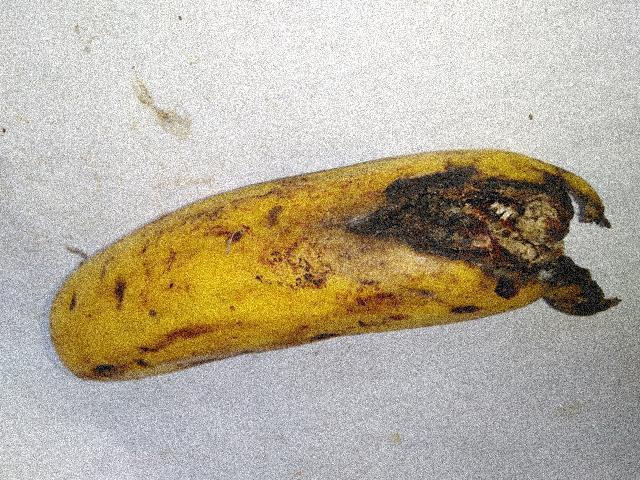rotten: (334, 125, 639, 331)
